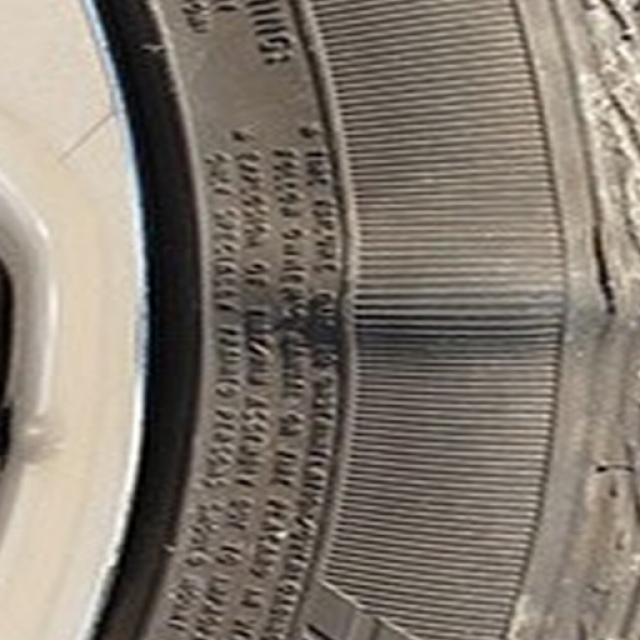Bulge: (262, 218, 638, 362)
